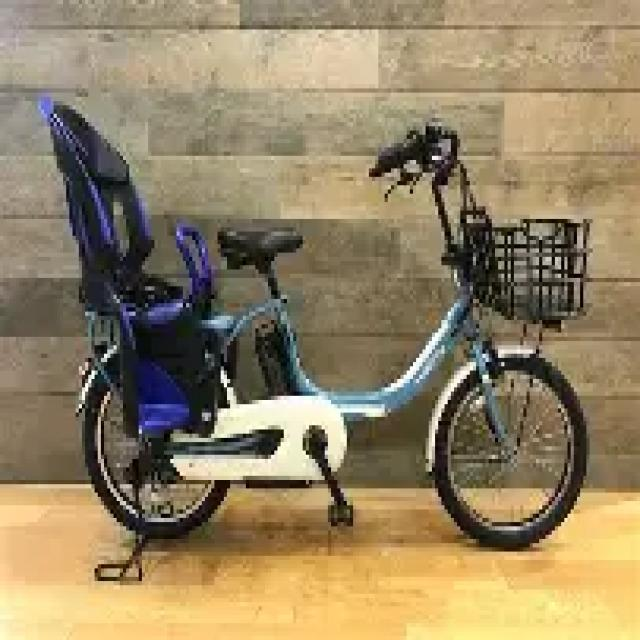basket: (463, 215, 594, 327)
battery: (253, 316, 298, 402)
childseat: (32, 90, 240, 438)
